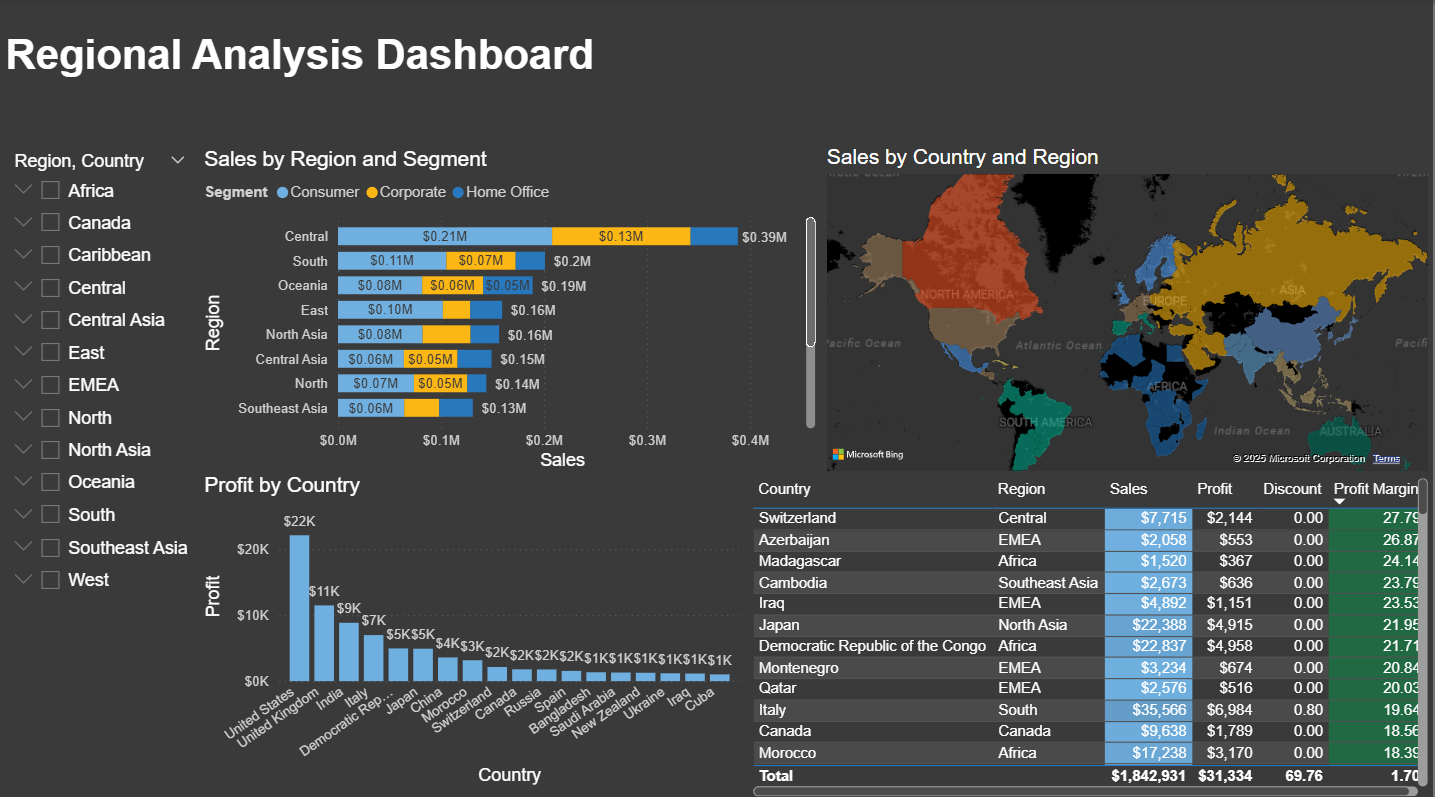

What the dashboard file says about the page in this screenshot:
{"tool":"powerbi","page":{"name":"Regional Analysis Dashboard","canvas":[1280,720],"ordinal":2},"visuals":[{"type":"slicer","fields":{"Values":["Global-Superstore.Region","Global-Superstore.Country"]},"box":[0,131.4,177.9,589.5],"z":0},{"type":"barChart","fields":{"Series":["Global-Superstore.Segment"],"Y":["Sum(Global-Superstore.Sales)"],"Category":["Global-Superstore.Region"]},"box":[177.9,132.6,555.8,293],"z":1000},{"type":"columnChart","fields":{"Y":["Sum(Global-Superstore.Profit)"],"Category":["Global-Superstore.Country"]},"box":[177.9,424.4,488.4,283.7],"z":2000},{"type":"tableEx","fields":{"Values":["Global-Superstore.Country","Global-Superstore.Region","Sum(Global-Superstore.Sales)","Sum(Global-Superstore.Profit)","Sum(Global-Superstore.Discount)","Global-Superstore.Profit Margin"]},"box":[666.3,424.4,614,294.2],"z":3000},{"type":"filledMap","fields":{"Category":["Global-Superstore.Country"],"Series":["Global-Superstore.Region"]},"box":[733.7,131.4,546.5,295.3],"z":4000},{"type":"textbox","box":[0,24.7,583.2,74.1],"z":5000}]}

Visuals, with their boxes in screenshot pixels (x1, y1, x2, y2), scaled from the page's 1280x720 canvas onto the 1435x797 screenshot:
slicer - Global-Superstore.Region x Global-Superstore.Country: x1=0 y1=145 x2=199 y2=796
barChart - Global-Superstore.Segment x Sum(Global-Superstore.Sales): x1=199 y1=147 x2=823 y2=471
columnChart - Sum(Global-Superstore.Profit) x Global-Superstore.Country: x1=199 y1=470 x2=747 y2=784
tableEx - Global-Superstore.Country x Global-Superstore.Region: x1=747 y1=470 x2=1434 y2=795
filledMap - Global-Superstore.Country x Global-Superstore.Region: x1=823 y1=145 x2=1434 y2=472
textbox: x1=0 y1=27 x2=654 y2=109
